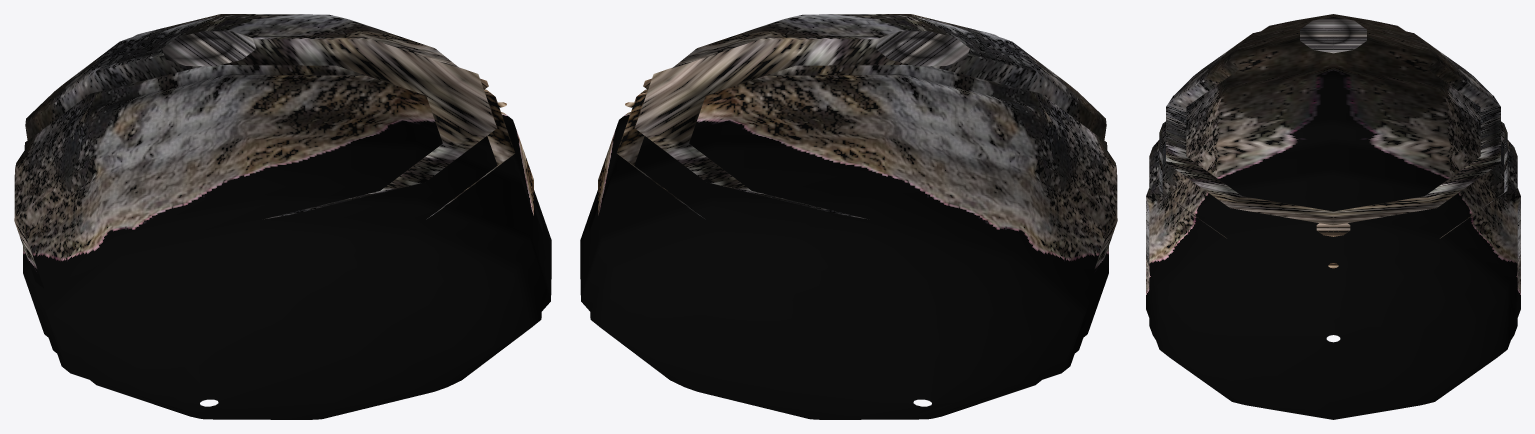
Rendered from rock_s.glb.
3 views of the same model, side by side, from view 1: azimuth 30°, elevation 25°; view 2: azimuth 150°, elevation 25°; view 3: azimuth 270°, elevation 25° (orthographic). The views are drawn at different scales.
Visible parts, largest first — view 1: solid; view 2: solid; view 3: solid.
Part boxes in pixels (x1,y1,x2,y2): solid: (14,14,551,419); solid: (580,14,1117,419); solid: (1146,14,1520,419).
Bounding box in the file's own units: 1.46 × 1 × 1.12.
Materials: 1 (1 with a texture image).
